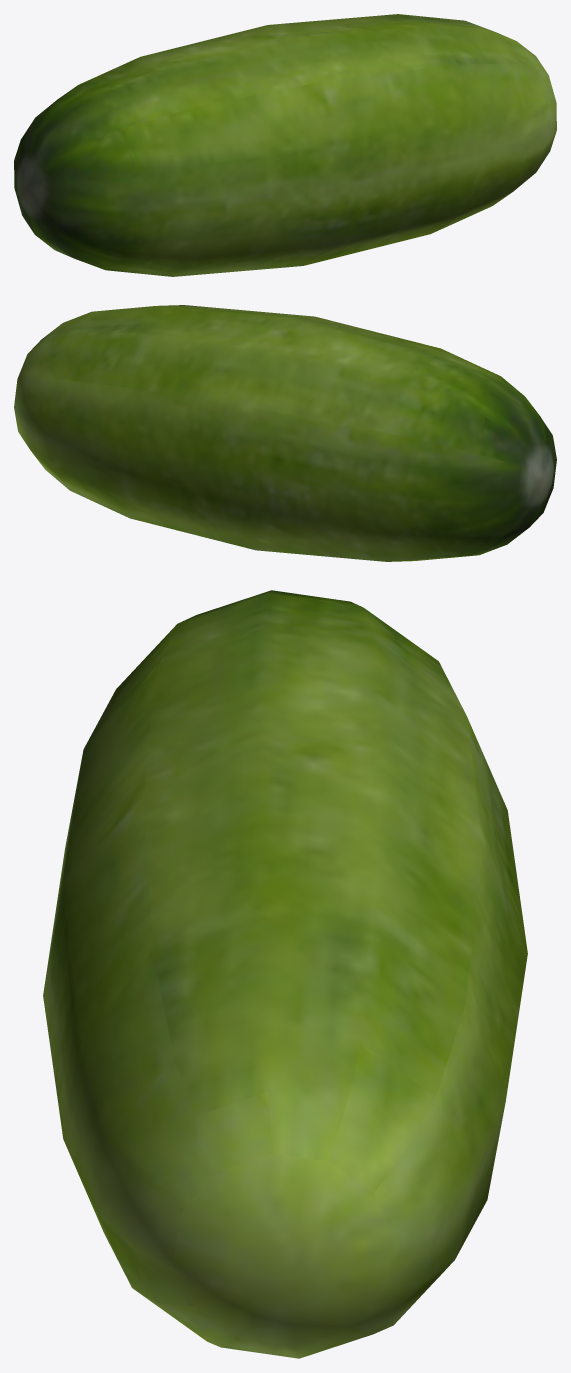
The model's file is SM_配餐室_水果蔬菜_07.fbx.
The picture shows the model from 3 angles, top to bottom: view 1: azimuth 30°, elevation 25°; view 2: azimuth 150°, elevation 25°; view 3: azimuth 270°, elevation 25°; orthographic projection. The views are drawn at different scales.
Visible parts, largest first — view 1: SM_配餐室_水果蔬菜_07; view 2: SM_配餐室_水果蔬菜_07; view 3: SM_配餐室_水果蔬菜_07.
Part boxes in pixels (x1,y1,x2,y2): SM_配餐室_水果蔬菜_07: (14,14,556,276); SM_配餐室_水果蔬菜_07: (14,305,556,561); SM_配餐室_水果蔬菜_07: (43,590,527,1358).
Size of the model in its own units: 139 by 56.77 by 56.77.
